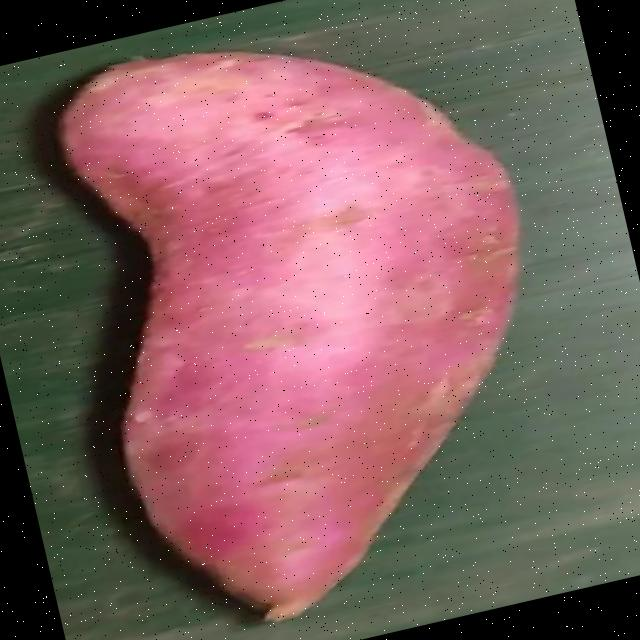Sweet Potato: (61, 51, 523, 625)
